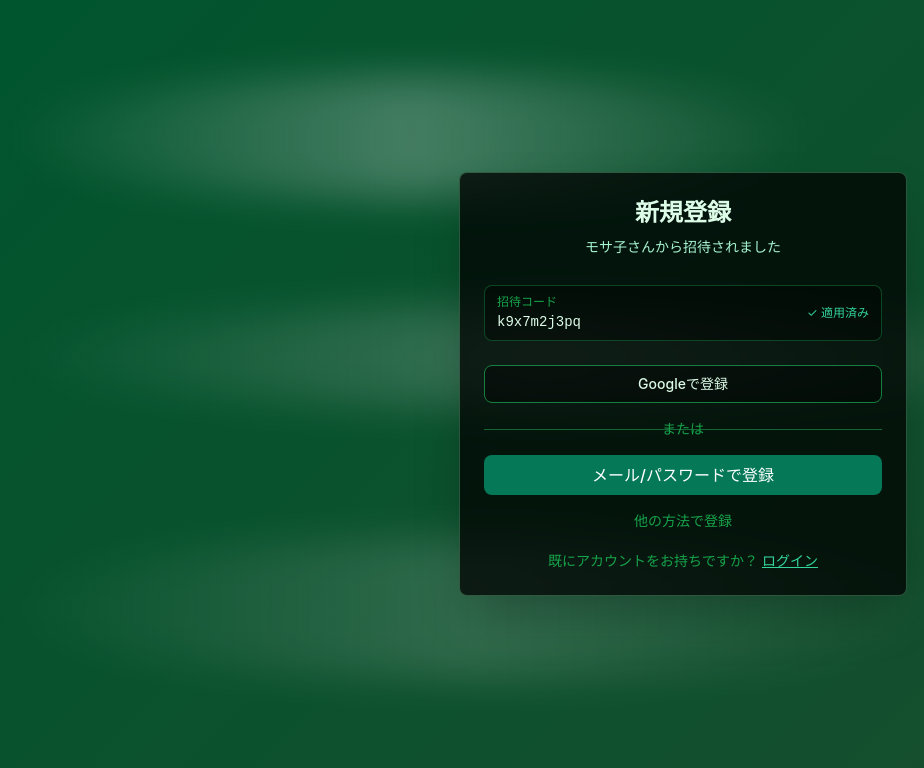
Test case: AuthForm - 新フロー (タスク7.2) › 招待モード (prefilledInvitationCode 渡し) › 「他の方法で登録」展開後は Apple / X のみ表示され GitHub / LINE は現れない
Click the button "他の方法で登録": (683, 521) top-left (484, 507), bottom-right (882, 535)
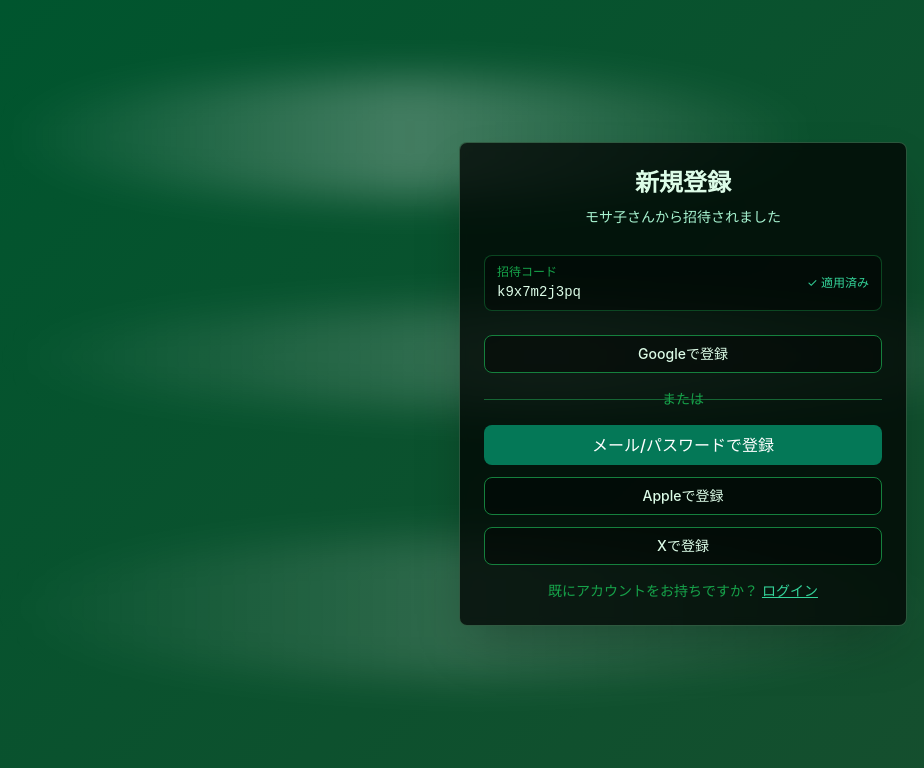
Result: the button "Appleで登録" is shown at top-left (484, 477), bottom-right (882, 515)
Result: the button "Xで登録" is shown at top-left (484, 527), bottom-right (882, 565)
